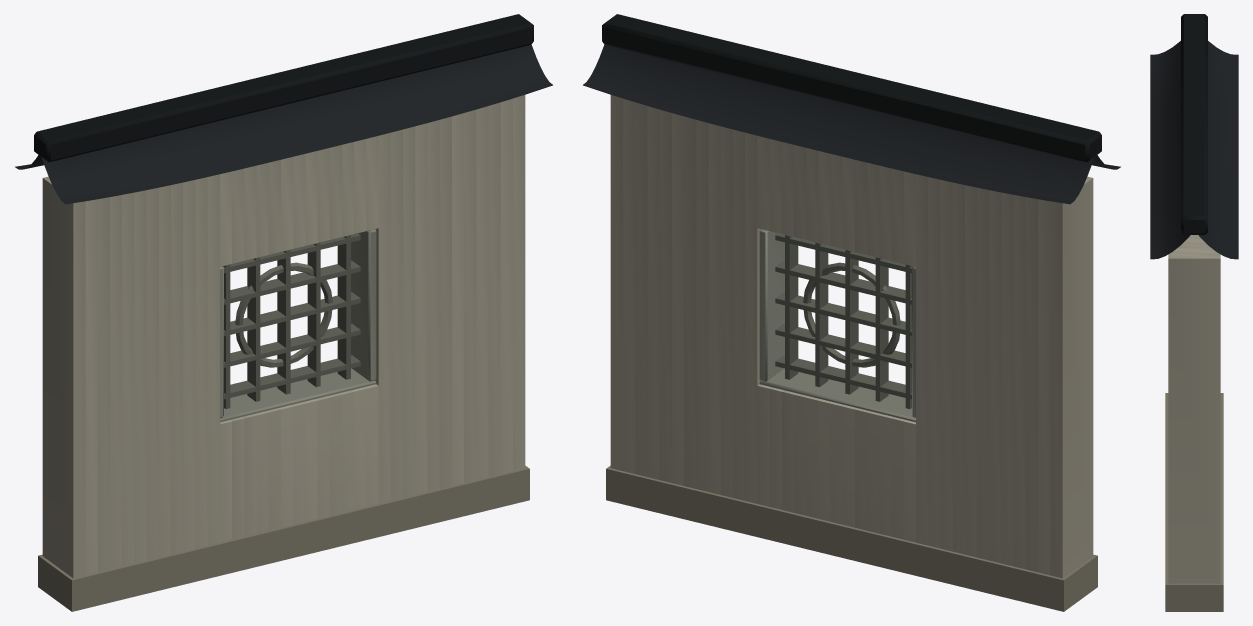
The model's file is hz-wall-lattice.glb.
3 views of the same model, side by side, from view 1: azimuth 30°, elevation 25°; view 2: azimuth 150°, elevation 25°; view 3: azimuth 270°, elevation 25° (orthographic). The views are drawn at different scales.
Parts seen in each view (by area): view 1: wall__plaster, coping__tile, lattice__stone; view 2: wall__plaster, coping__tile, lattice__stone; view 3: wall__plaster, coping__tile.
Boxes of the visible parts, box(x1,y1,x2,y2) form: wall__plaster: box(38, 95, 529, 611); coping__tile: box(15, 14, 552, 204); lattice__stone: box(220, 229, 376, 422); wall__plaster: box(606, 95, 1097, 611); coping__tile: box(583, 14, 1120, 204); lattice__stone: box(759, 229, 915, 422); wall__plaster: box(1165, 235, 1223, 611); coping__tile: box(1150, 14, 1238, 259).
Size of the model in its own units: 3.24 by 2.96 by 0.59.
